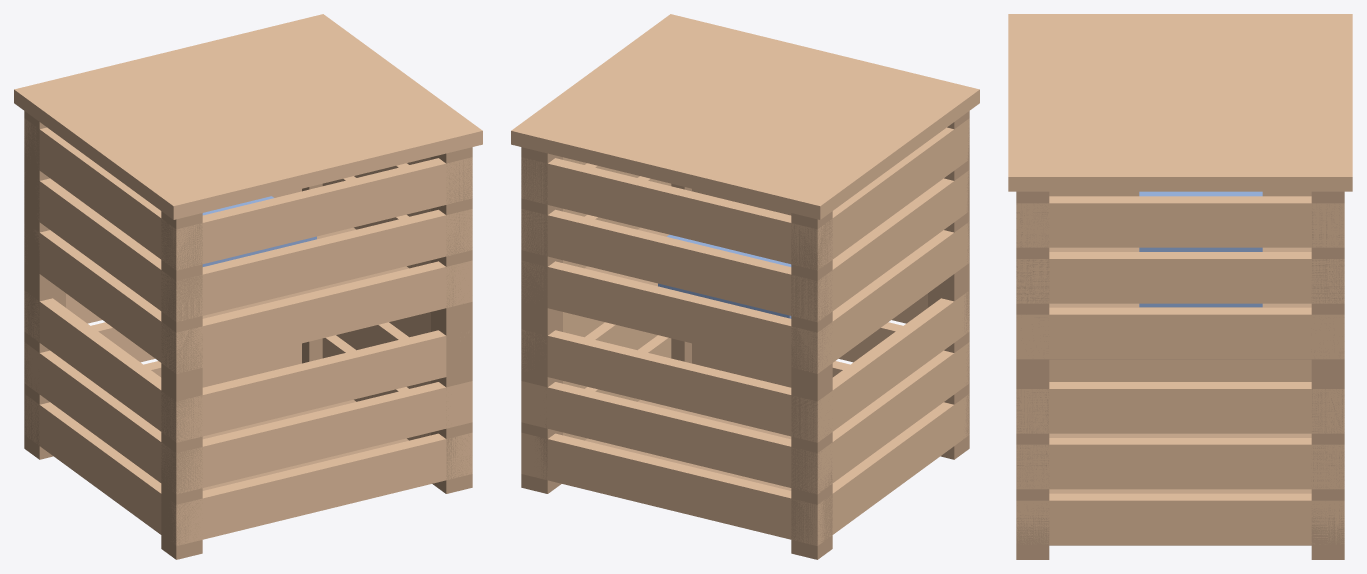
File: bedsideCrate.glb
3 renders of one model, left to right at view 1: azimuth 30°, elevation 25°; view 2: azimuth 150°, elevation 25°; view 3: azimuth 270°, elevation 25°, orthographic. The views are drawn at different scales.
Parts seen in each view (by area): view 1: bedsideCrate; view 2: bedsideCrate; view 3: bedsideCrate.
Part boxes in pixels (left/top/right/bottom): bedsideCrate: left=14, top=14, right=482, bottom=559; bedsideCrate: left=511, top=14, right=979, bottom=559; bedsideCrate: left=1008, top=14, right=1352, bottom=559.
Bounding box in the file's own units: 0.235 × 0.26 × 0.21.
